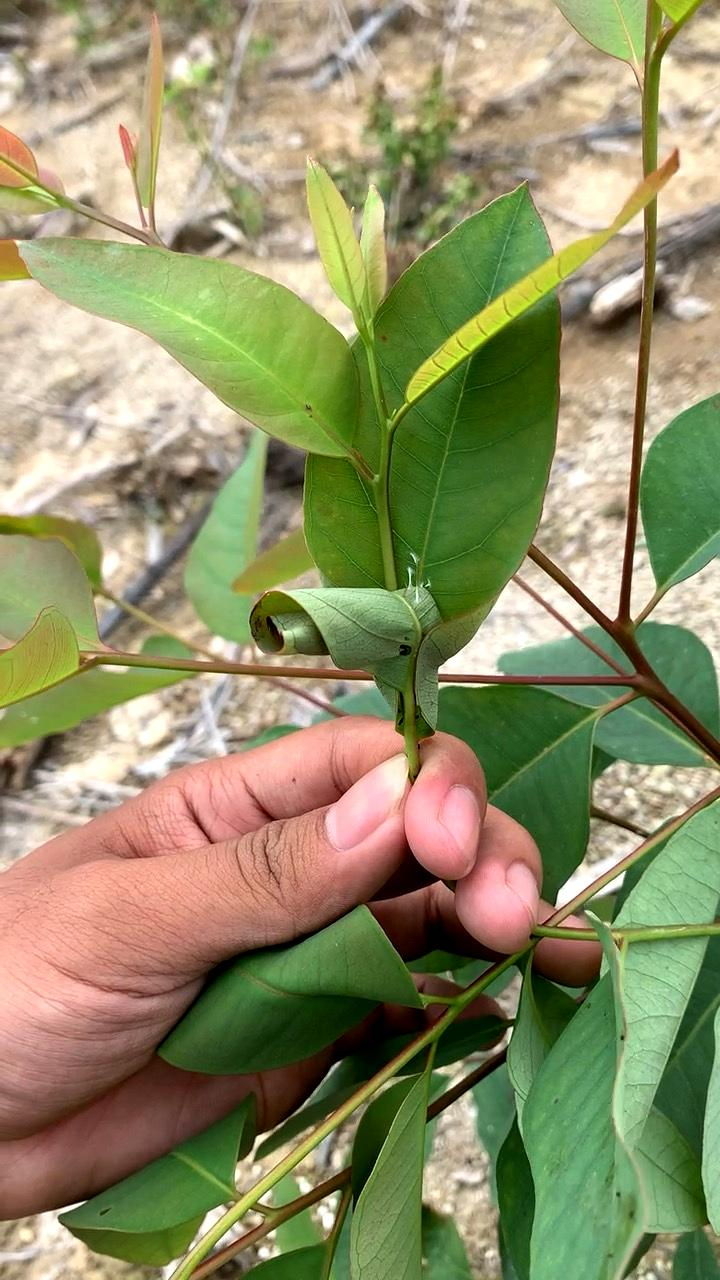Leaf Roller - Leaf: (215, 538, 491, 704)
